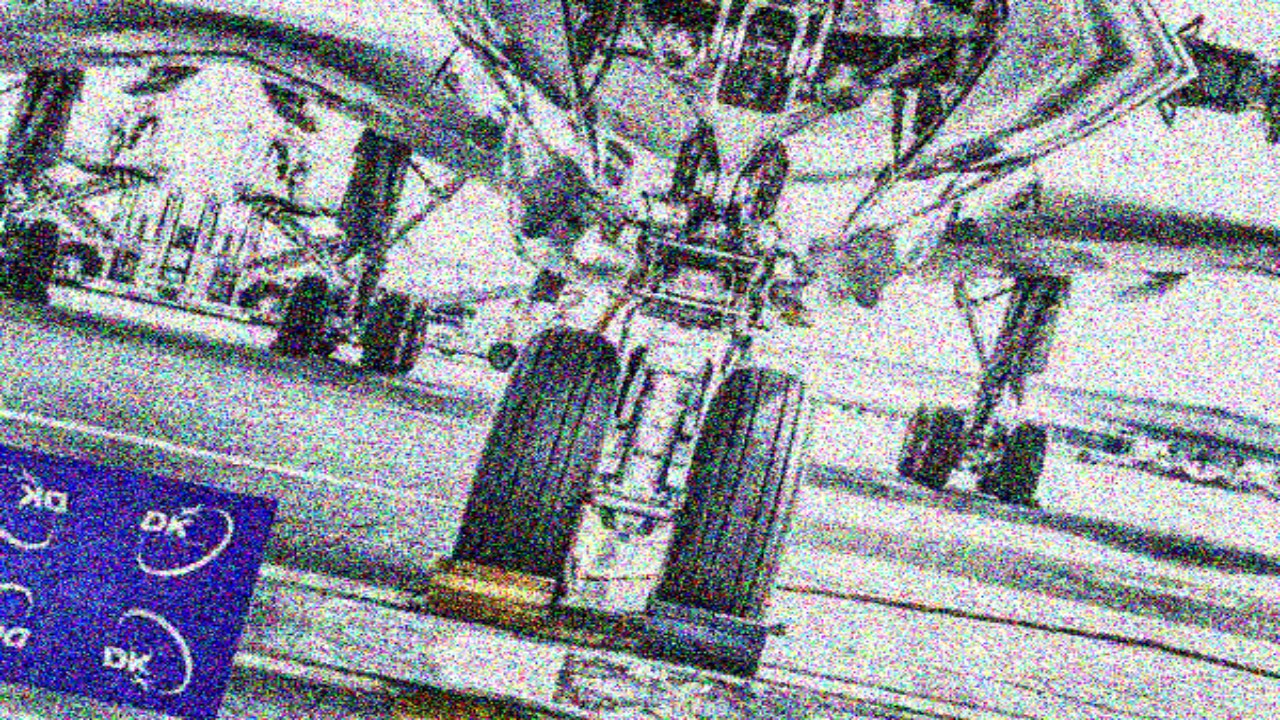chock: (416, 549, 563, 635), (638, 593, 775, 676), (377, 684, 524, 720), (994, 487, 1045, 514), (266, 337, 313, 361), (5, 284, 52, 307)
wheel: (634, 357, 835, 672), (437, 317, 633, 606), (271, 268, 357, 361), (355, 285, 432, 377), (978, 416, 1054, 506), (892, 398, 967, 487), (0, 209, 68, 302), (967, 418, 1020, 496), (308, 280, 356, 358), (891, 399, 938, 477), (608, 340, 651, 425), (677, 354, 718, 437), (392, 296, 435, 374), (46, 238, 106, 290), (234, 276, 294, 328), (0, 213, 31, 291), (485, 339, 520, 372)
